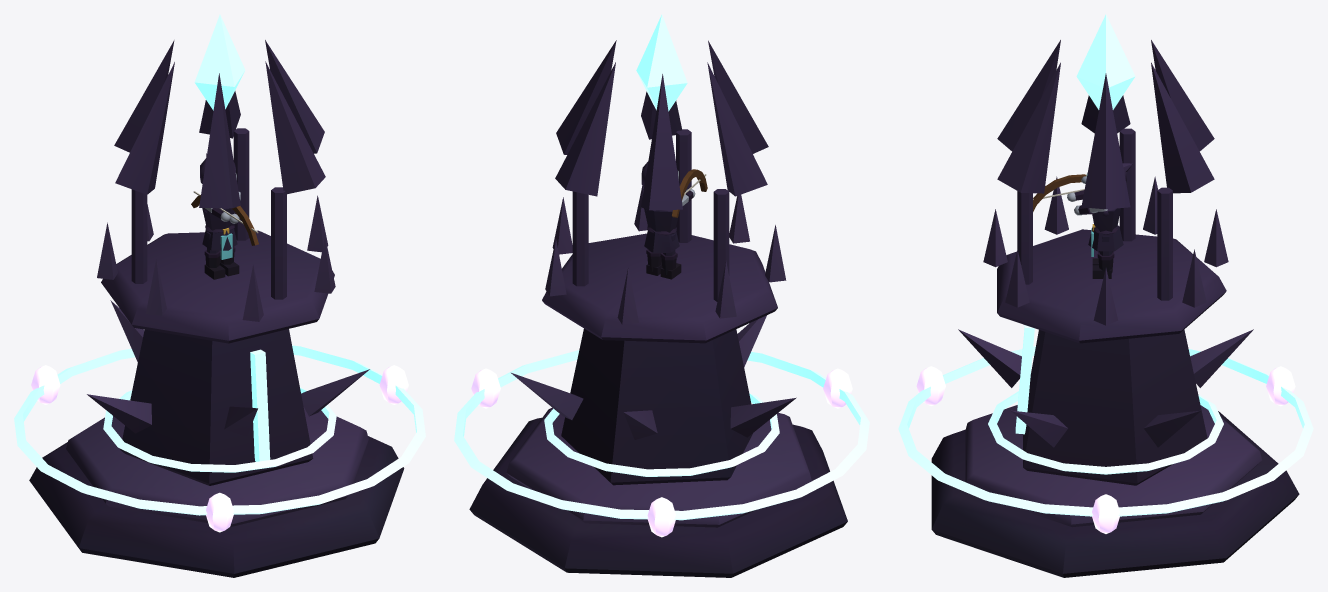
File: ombres_0.glb
3 views of the same model, side by side, from view 1: azimuth 30°, elevation 25°; view 2: azimuth 150°, elevation 25°; view 3: azimuth 270°, elevation 25° (orthographic).
Visible parts, largest first — view 1: ombres_0_peint, Rune, ombres_0_lueur, Cristal_lueur, AnneauFlottant_lueur, Buste_peint, JambeG_peint, ArmeG_peint; view 2: ombres_0_peint, Rune, Cristal_lueur, ombres_0_lueur, AnneauFlottant_lueur, Buste_peint; view 3: ombres_0_peint, Rune, ombres_0_lueur, Cristal_lueur, AnneauFlottant_lueur, Buste_peint, ArmeG_peint, JambeD_peint.
Boxes of the visible parts, x1,y1,x2,y2 form: ombres_0_peint: [29, 40, 404, 577]; Rune: [14, 345, 425, 515]; ombres_0_lueur: [103, 349, 336, 472]; Cristal_lueur: [194, 14, 245, 110]; AnneauFlottant_lueur: [31, 365, 408, 532]; Buste_peint: [202, 208, 237, 259]; JambeG_peint: [204, 231, 225, 279]; ArmeG_peint: [191, 191, 258, 245]; ombres_0_peint: [469, 40, 847, 577]; Rune: [454, 350, 869, 520]; Cristal_lueur: [636, 14, 687, 111]; ombres_0_lueur: [544, 393, 779, 476]; AnneauFlottant_lueur: [471, 368, 852, 537]; Buste_peint: [644, 208, 679, 252]; ombres_0_peint: [931, 40, 1299, 577]; Rune: [898, 346, 1313, 516]; ombres_0_lueur: [988, 325, 1223, 474]; Cristal_lueur: [1076, 14, 1135, 109]; AnneauFlottant_lueur: [916, 366, 1295, 533]; Buste_peint: [1088, 208, 1123, 256]; ArmeG_peint: [1033, 174, 1086, 211]; JambeD_peint: [1092, 236, 1114, 278].
Bounding box in the file's own units: 0.858 × 1.09 × 0.844.
